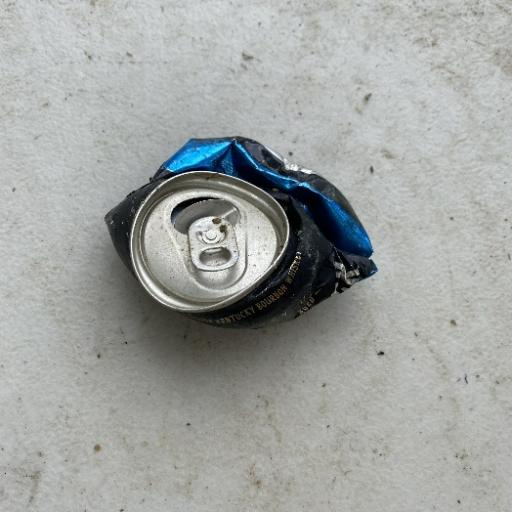Metal: (103, 133, 378, 332)
